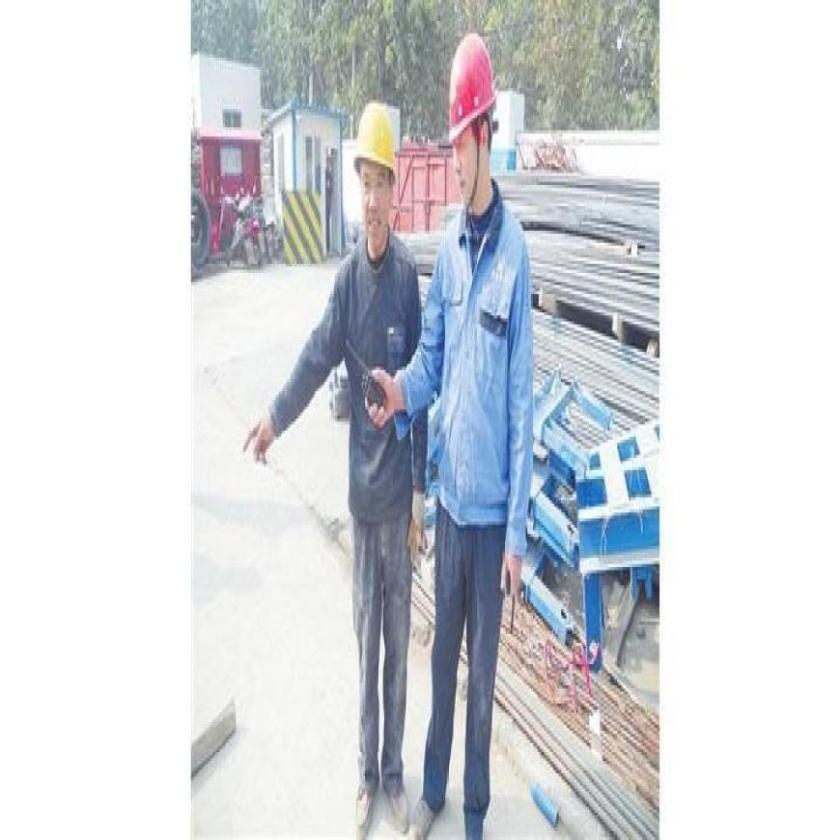Con_casco: (443, 30, 500, 209), (346, 100, 400, 254)
